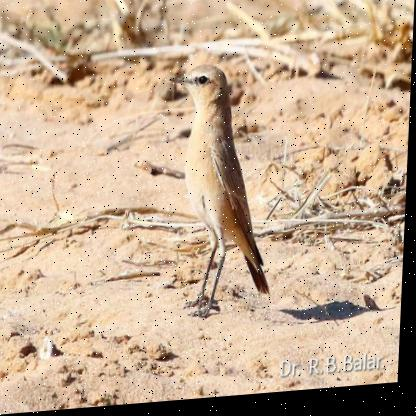Burung: (161, 52, 283, 325)
